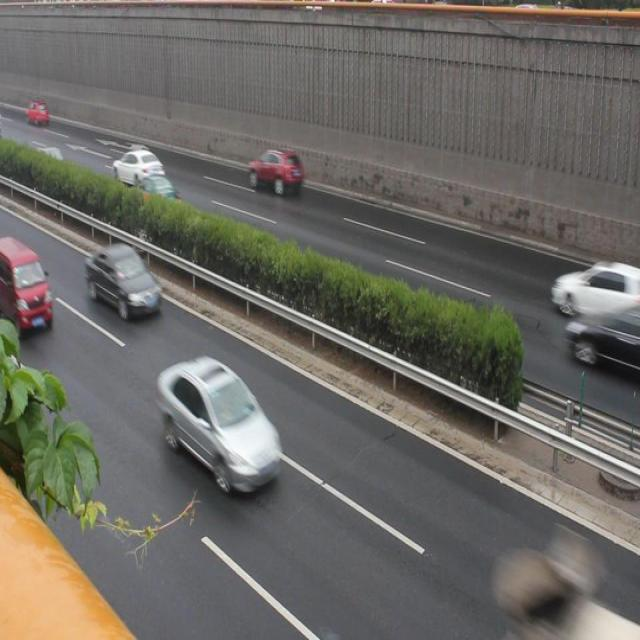bus: (487, 538, 640, 640)
car: (159, 355, 286, 505), (85, 239, 163, 325), (543, 259, 640, 324), (243, 146, 310, 195), (110, 147, 166, 191), (130, 169, 179, 215), (33, 140, 80, 186)
truck: (1, 232, 54, 336)
